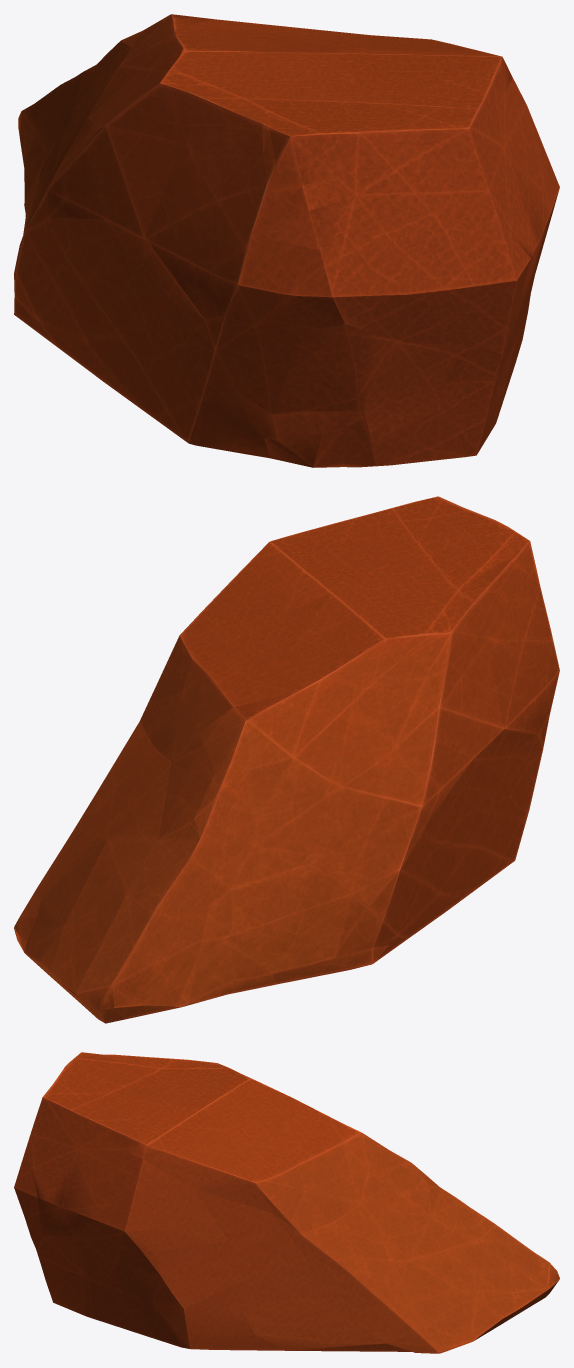
Rendered from desert_small_2.glb.
3 views of the same model, one above another, from view 1: azimuth 30°, elevation 25°; view 2: azimuth 150°, elevation 25°; view 3: azimuth 270°, elevation 25° (orthographic). The views are drawn at different scales.
Visible parts, largest first — view 1: output_unwrapped; view 2: output_unwrapped; view 3: output_unwrapped.
Boxes of the visible parts, bbox=[...] form: output_unwrapped: bbox=[14, 14, 559, 467]; output_unwrapped: bbox=[14, 496, 559, 1023]; output_unwrapped: bbox=[14, 1052, 559, 1353].
Size of the model in its own units: 0.9472 by 0.7859 by 1.9.
1 material, 1 textured.
